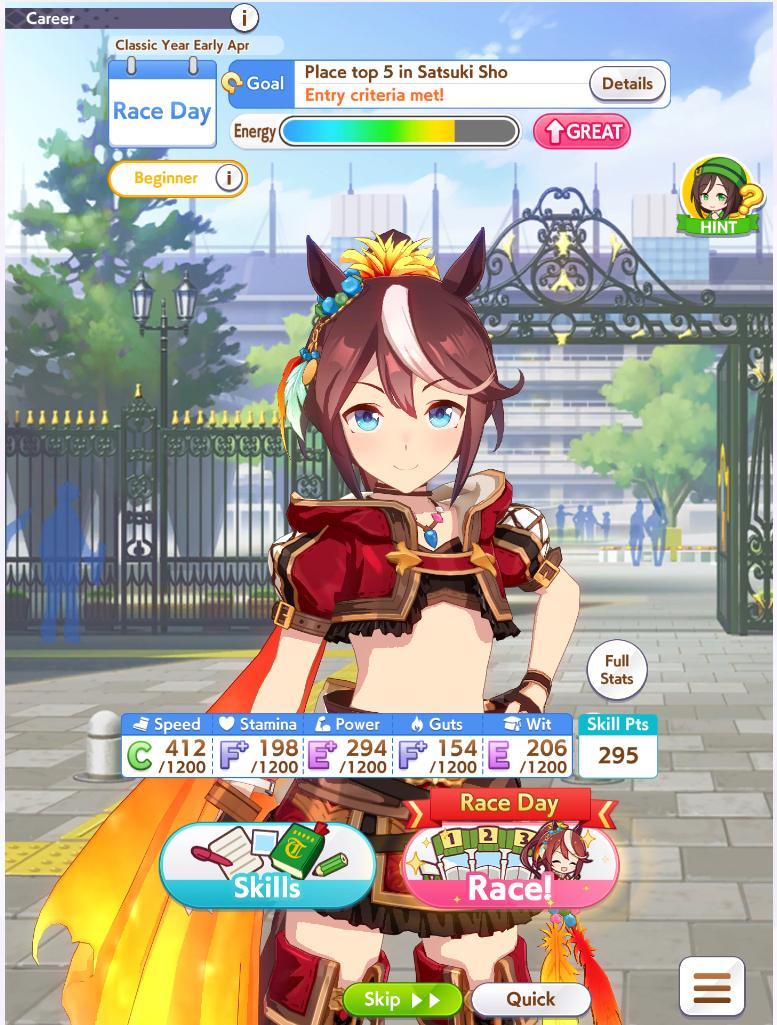Energy: (226, 110, 518, 157)
Great: (532, 111, 636, 151)
race_day: (406, 823, 614, 912)
skill_day: (163, 821, 372, 909)
